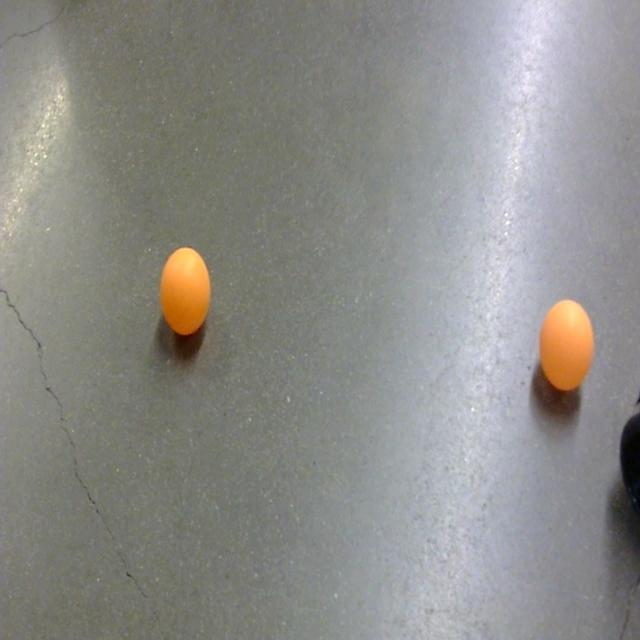ball: (537, 294, 596, 394), (156, 242, 213, 340)
